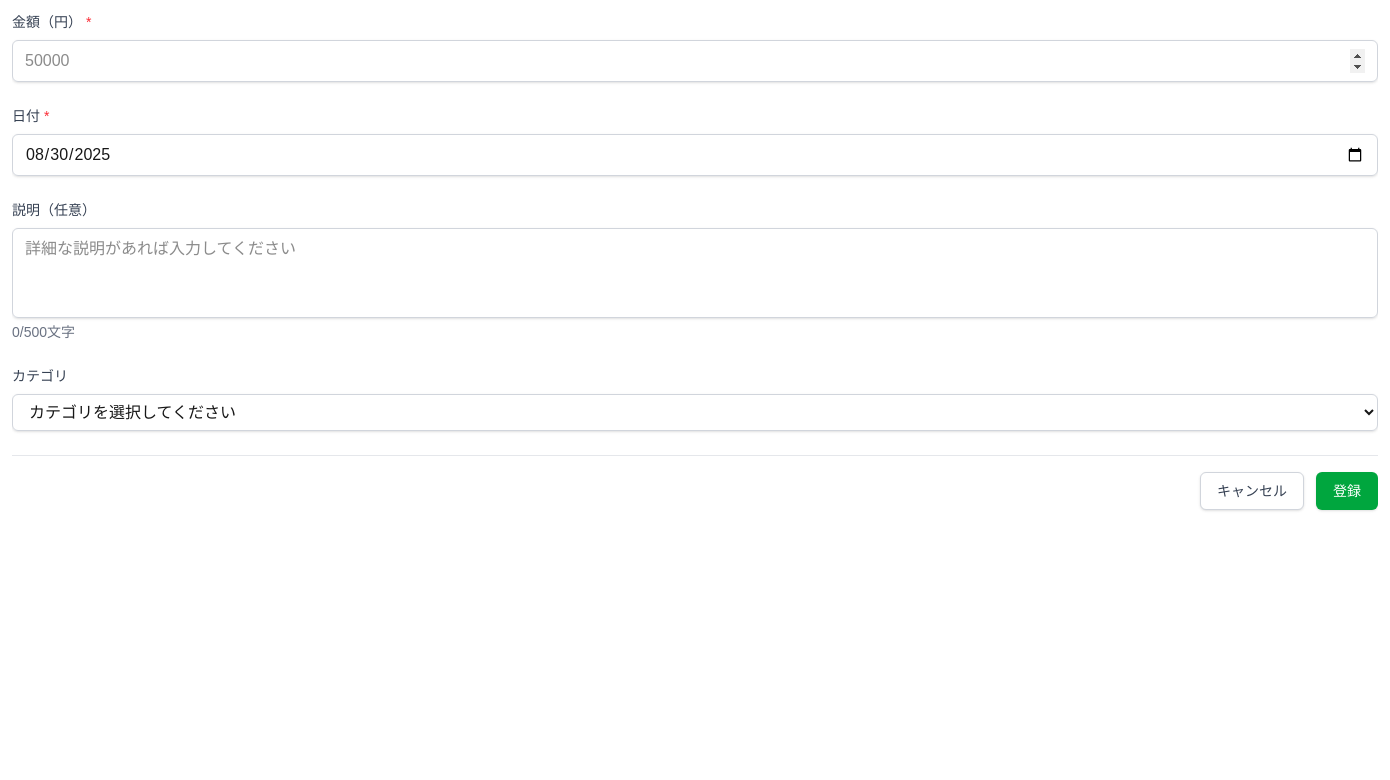
Test: IncomeForm › 必須フィールドが空の場合、エラーメッセージが表示されること
// 金額フィールドをクリア
Clear the number field labelled "金額（円） *" at (695, 61), box [12,40,1378,82]
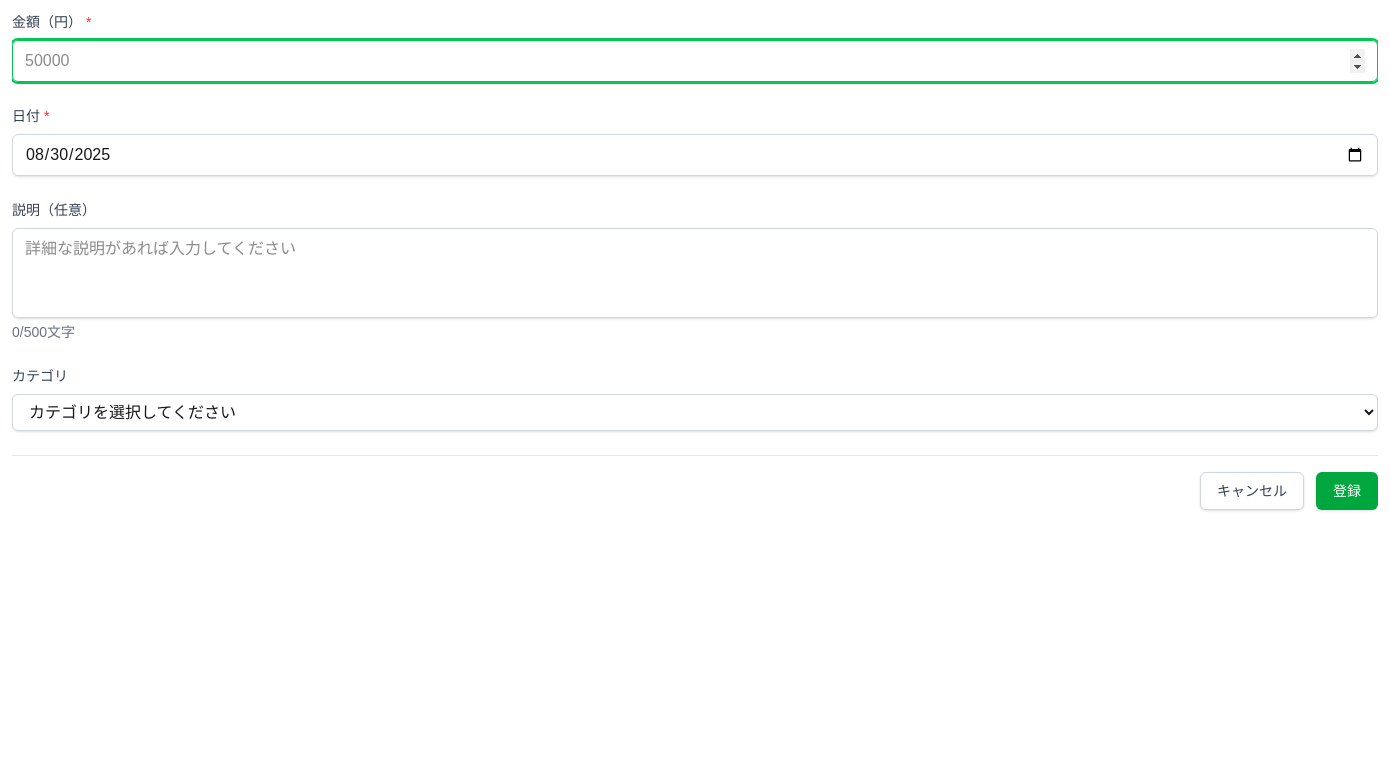
// 日付フィールドをクリア
Clear the date field labelled "日付 *" at (695, 155), box [12,134,1378,176]
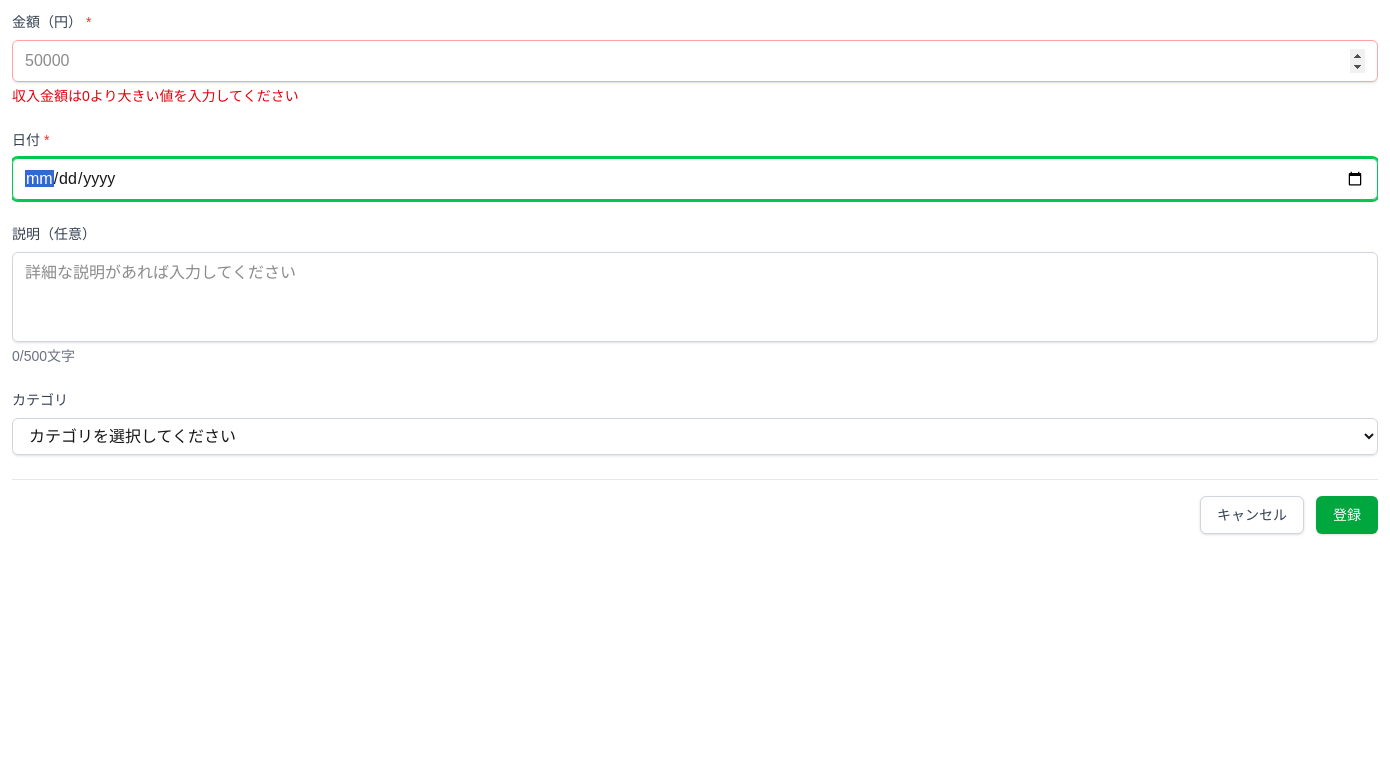
// 送信ボタンをクリック
Click the button "登録" at (1347, 515), box [1316,496,1378,534]
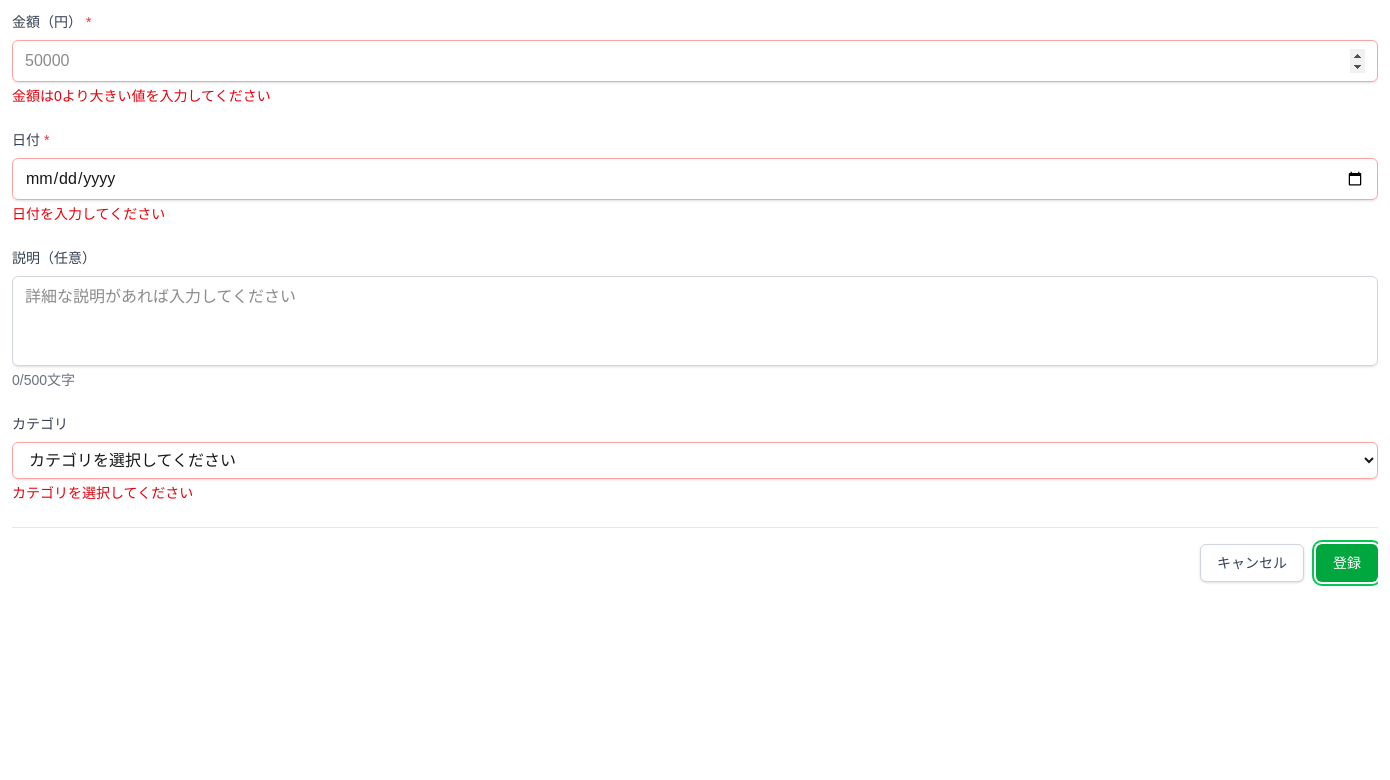
Now the text "金額は0より大きい値を入力してください" is shown, box [12,88,271,104]
Now the text "日付を入力してください" is shown, box [12,206,165,222]
